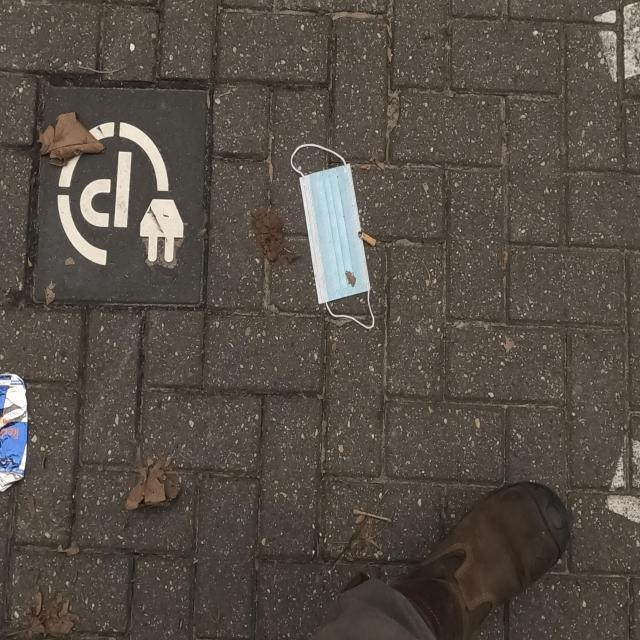Can-Metal: (0, 368, 28, 491)
Mask: (289, 138, 376, 332)
